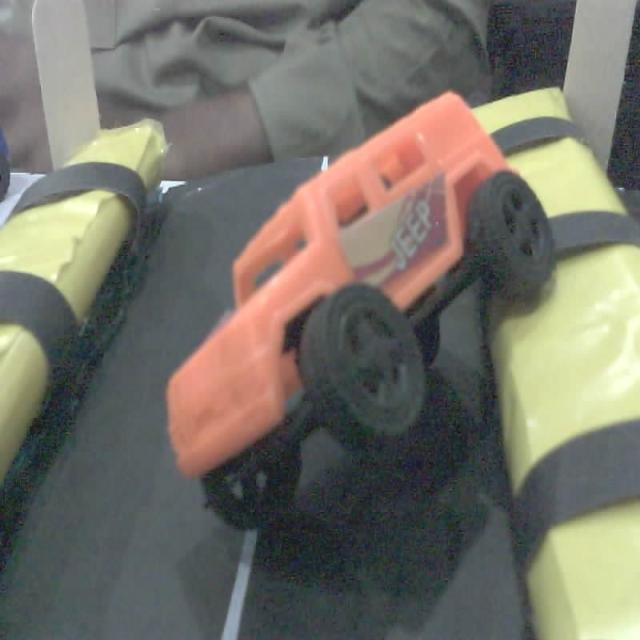Accident: (160, 82, 555, 541)
